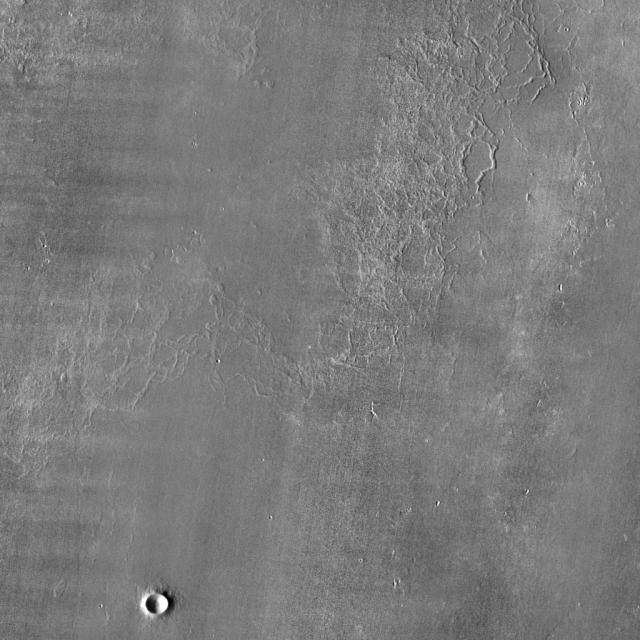crater: (152, 593, 174, 613)
